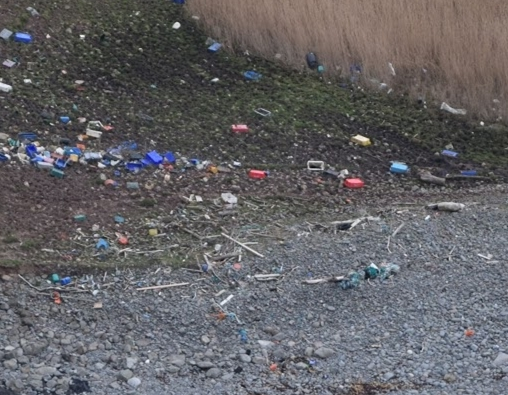net: (338, 255, 404, 293)
scattered_barrel: (228, 100, 380, 192), (37, 206, 164, 306), (170, 14, 334, 83), (386, 98, 490, 192), (1, 18, 103, 100), (195, 255, 253, 344)
straight_bar: (421, 195, 471, 218)
together_barrel: (1, 113, 222, 174)
